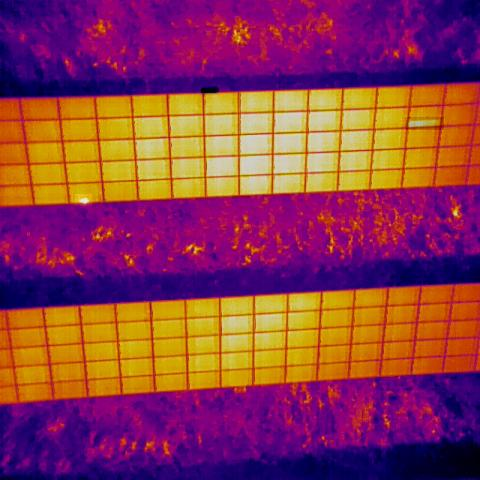fault: (405, 117, 444, 130), (75, 194, 92, 206)
